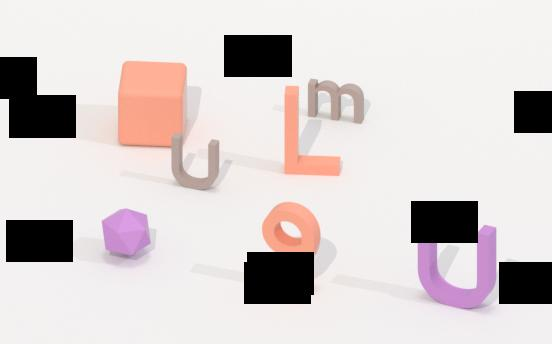9: (261, 202, 324, 293)
dagiac: (100, 208, 156, 258)
hop: (110, 58, 191, 151)
l: (280, 88, 349, 177)
m: (291, 76, 371, 126)
u: (412, 209, 498, 313), (164, 130, 226, 193)
